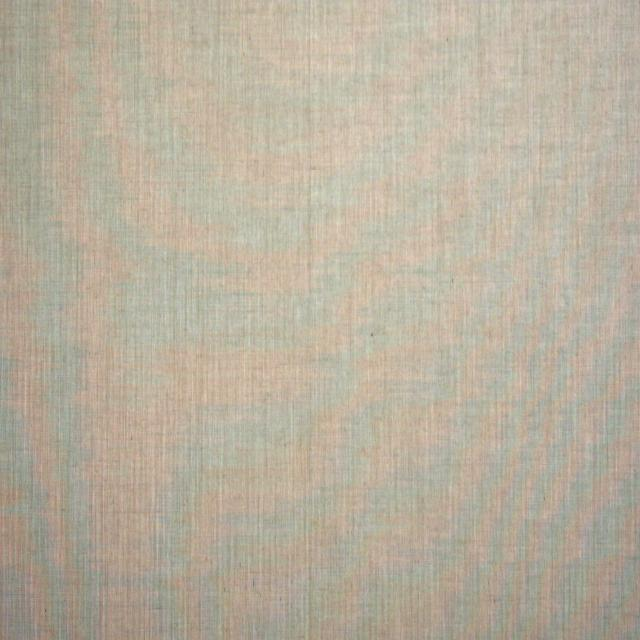dirty: (436, 204, 442, 252), (370, 330, 374, 339)
